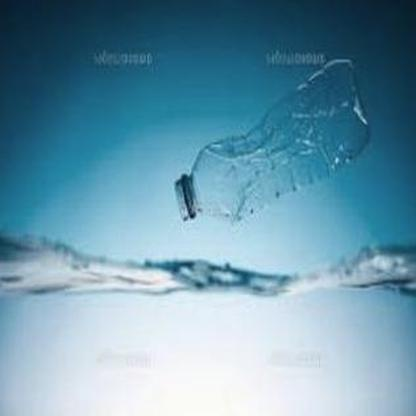plastic bottle: (174, 58, 372, 221)
